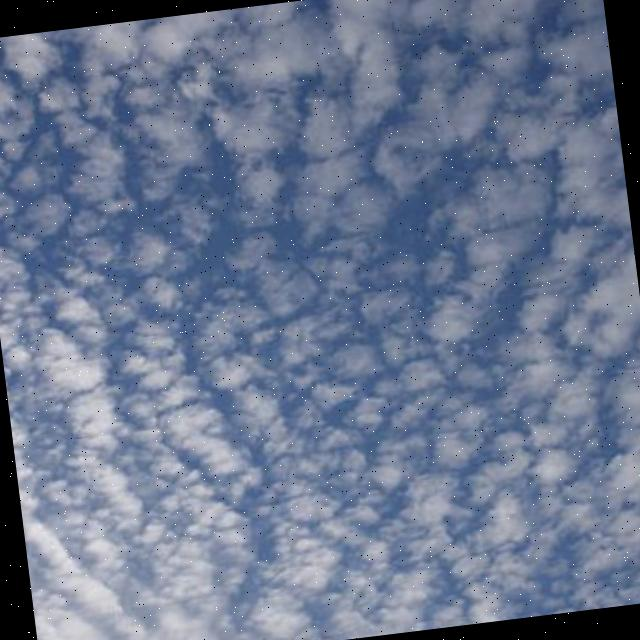Cc: (1, 1, 640, 618)
